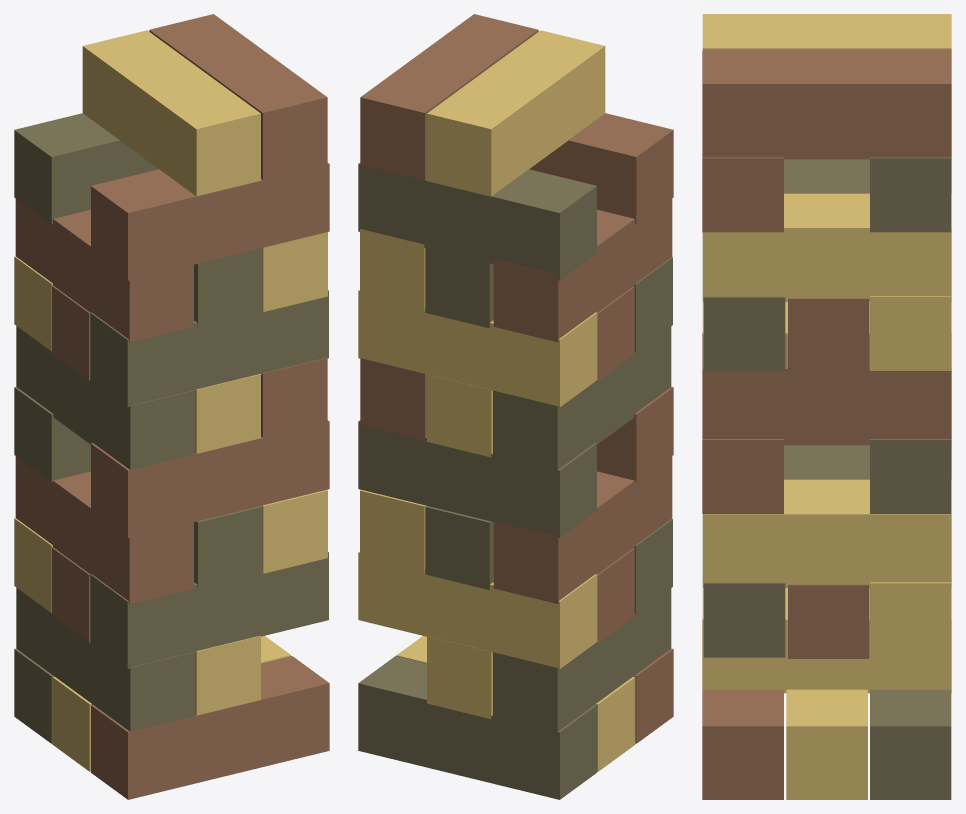
Rendered from JengaMontado.fbx.
The picture shows the model from 3 angles, left to right: view 1: azimuth 30°, elevation 25°; view 2: azimuth 150°, elevation 25°; view 3: azimuth 270°, elevation 25°; orthographic projection. The views are drawn at different scales.
Parts seen in each view (by area): view 1: JengaMontado; view 2: JengaMontado; view 3: JengaMontado.
Part boxes in pixels (x1,y1,x2,y2): JengaMontado: (14,14,329,799); JengaMontado: (358,14,673,799); JengaMontado: (702,14,951,799).
Bounding box in the file's own units: 0.1616 × 0.5008 × 0.1581.
